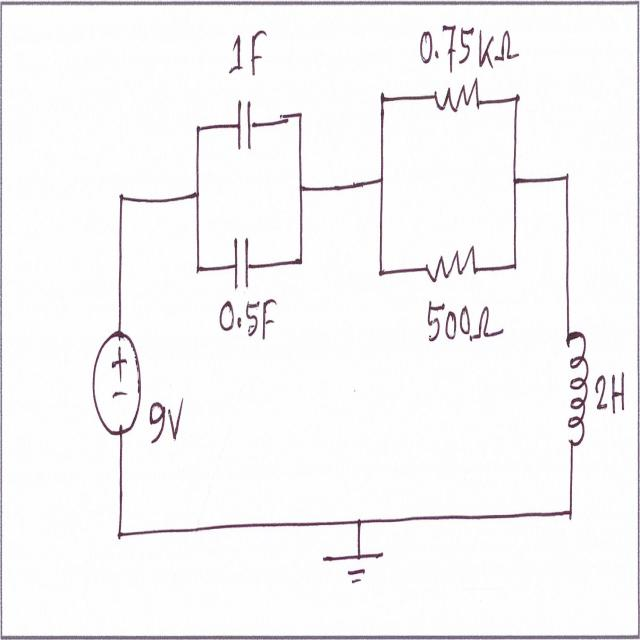capacitor: (229, 226, 255, 291), (234, 88, 257, 157)
ground: (314, 546, 404, 605)
inductor: (558, 309, 593, 462)
resistor: (424, 68, 492, 142), (418, 244, 482, 292)
voltage_source: (86, 323, 145, 444)
